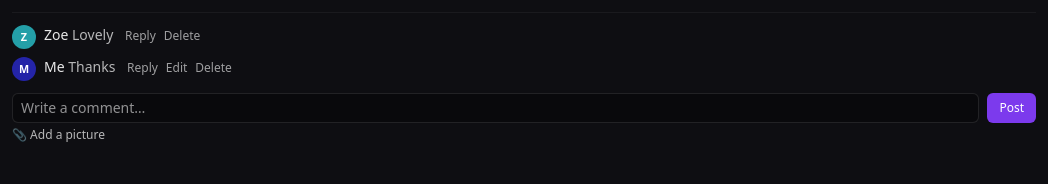
Test case: CommentThread › keeps the comment if you decline the confirmation or the delete fails
This screenshot has width=1048, height=184.
Step 1. Click the button with aria-label "Delete comment by Zoe" → point(182, 36), box [164,28,200,44]
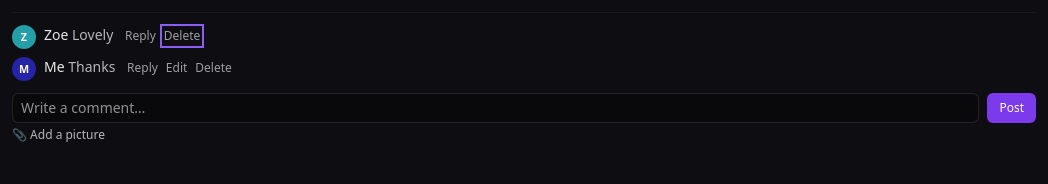
Step 2. Click the button with aria-label "Delete comment by Zoe" → point(182, 36), box [164,28,200,44]
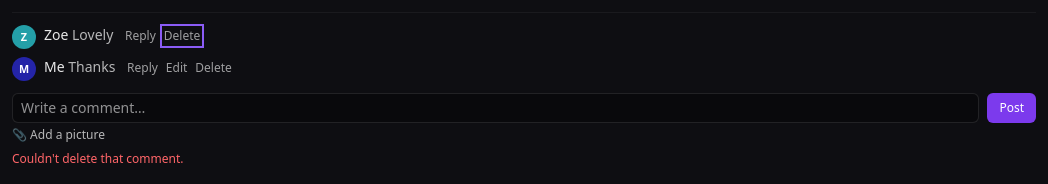
Expected: the text "Lovely" is shown, [72,25,113,44]
Expected: the text "Couldn't delete that comment." is shown, [12,150,184,167]
